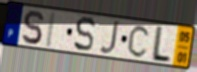C: (126, 24, 152, 60)
I: (44, 10, 58, 49)
J: (99, 20, 121, 56)
L: (149, 25, 173, 65)
S: (73, 15, 97, 53), (21, 9, 45, 46)
